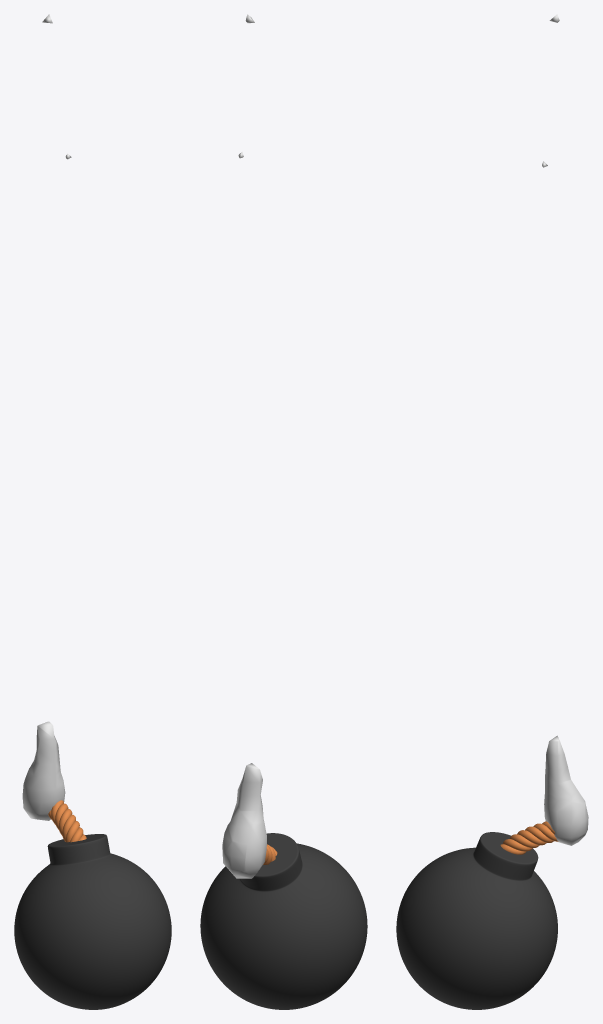
3 views of the same model, side by side, from view 1: azimuth 30°, elevation 25°; view 2: azimuth 150°, elevation 25°; view 3: azimuth 270°, elevation 25° (orthographic). The views are drawn at different scales.
Visible parts, largest first — view 1: 球体, 融球, 圆环.001; view 2: 球体, 融球; view 3: 球体, 融球, 圆环.001.
Boxes of the visible parts, x1,y1,x2,y2 form: 球体: (14,834,171,1009); 融球: (22,14,71,820); 圆环.001: (48,800,86,842); 球体: (200,833,367,1009); 融球: (222,14,266,878); 球体: (396,832,557,1009); 融球: (542,14,588,845); 圆环.001: (500,821,558,854).
Bounding box in the file's own units: 395 × 2660 × 470.
